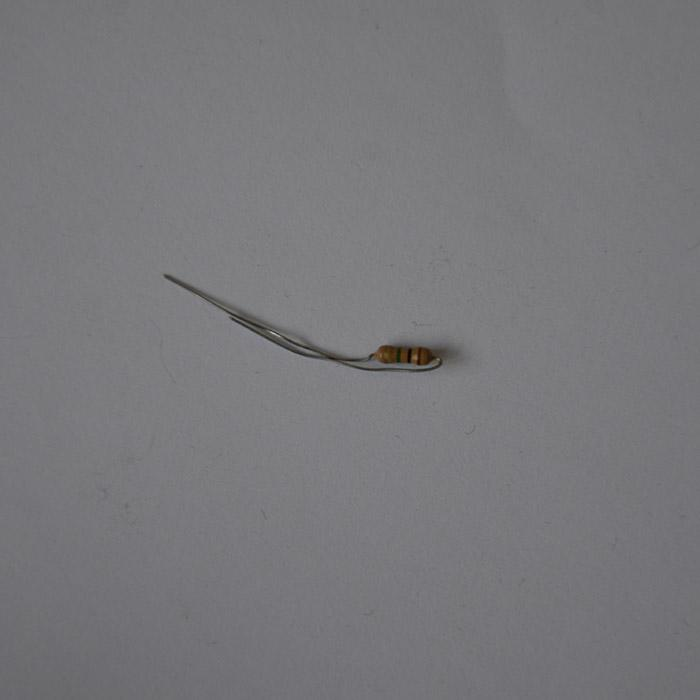resistor: (373, 344, 435, 366)
